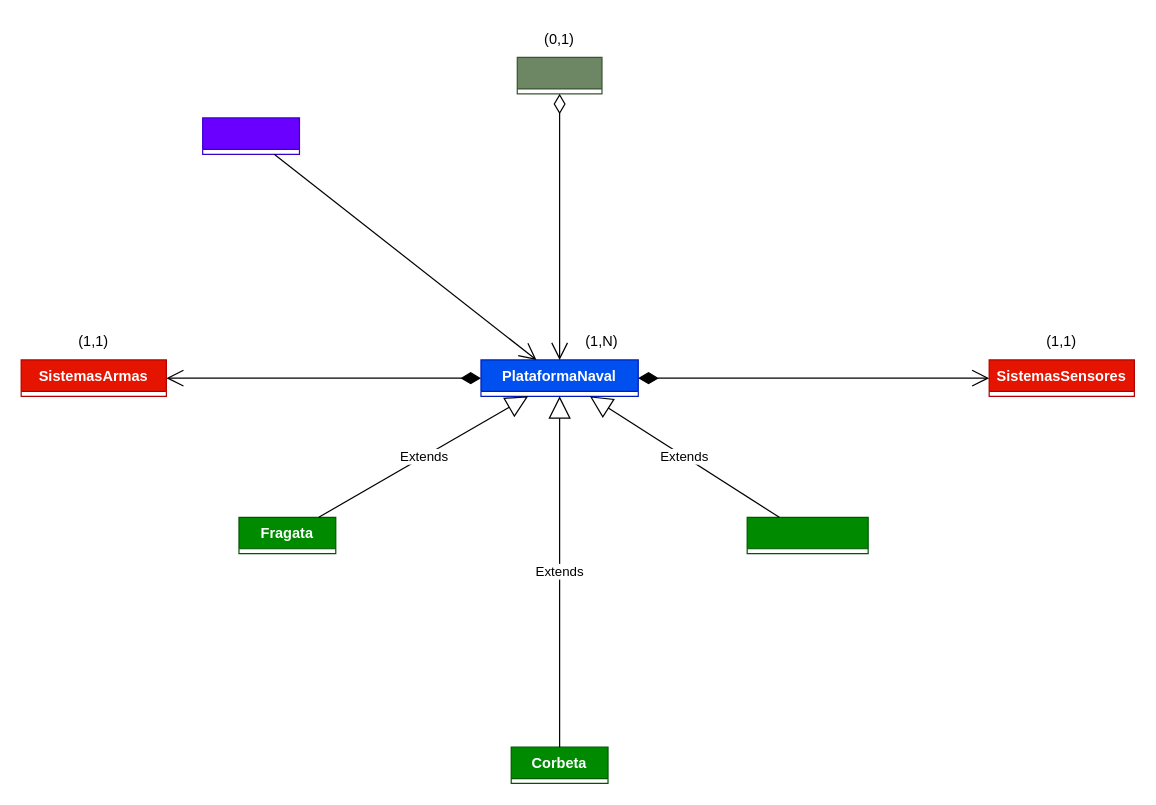
Some shapes in this 1156 by 805 pixel diagram are drawn without their labels. Here are the shapes that lost their labels. From the top down, the centre of each, then its label:
At (559,75): "Flota".
At (250,135): "Capitán".
At (807,535): "Submarino".
